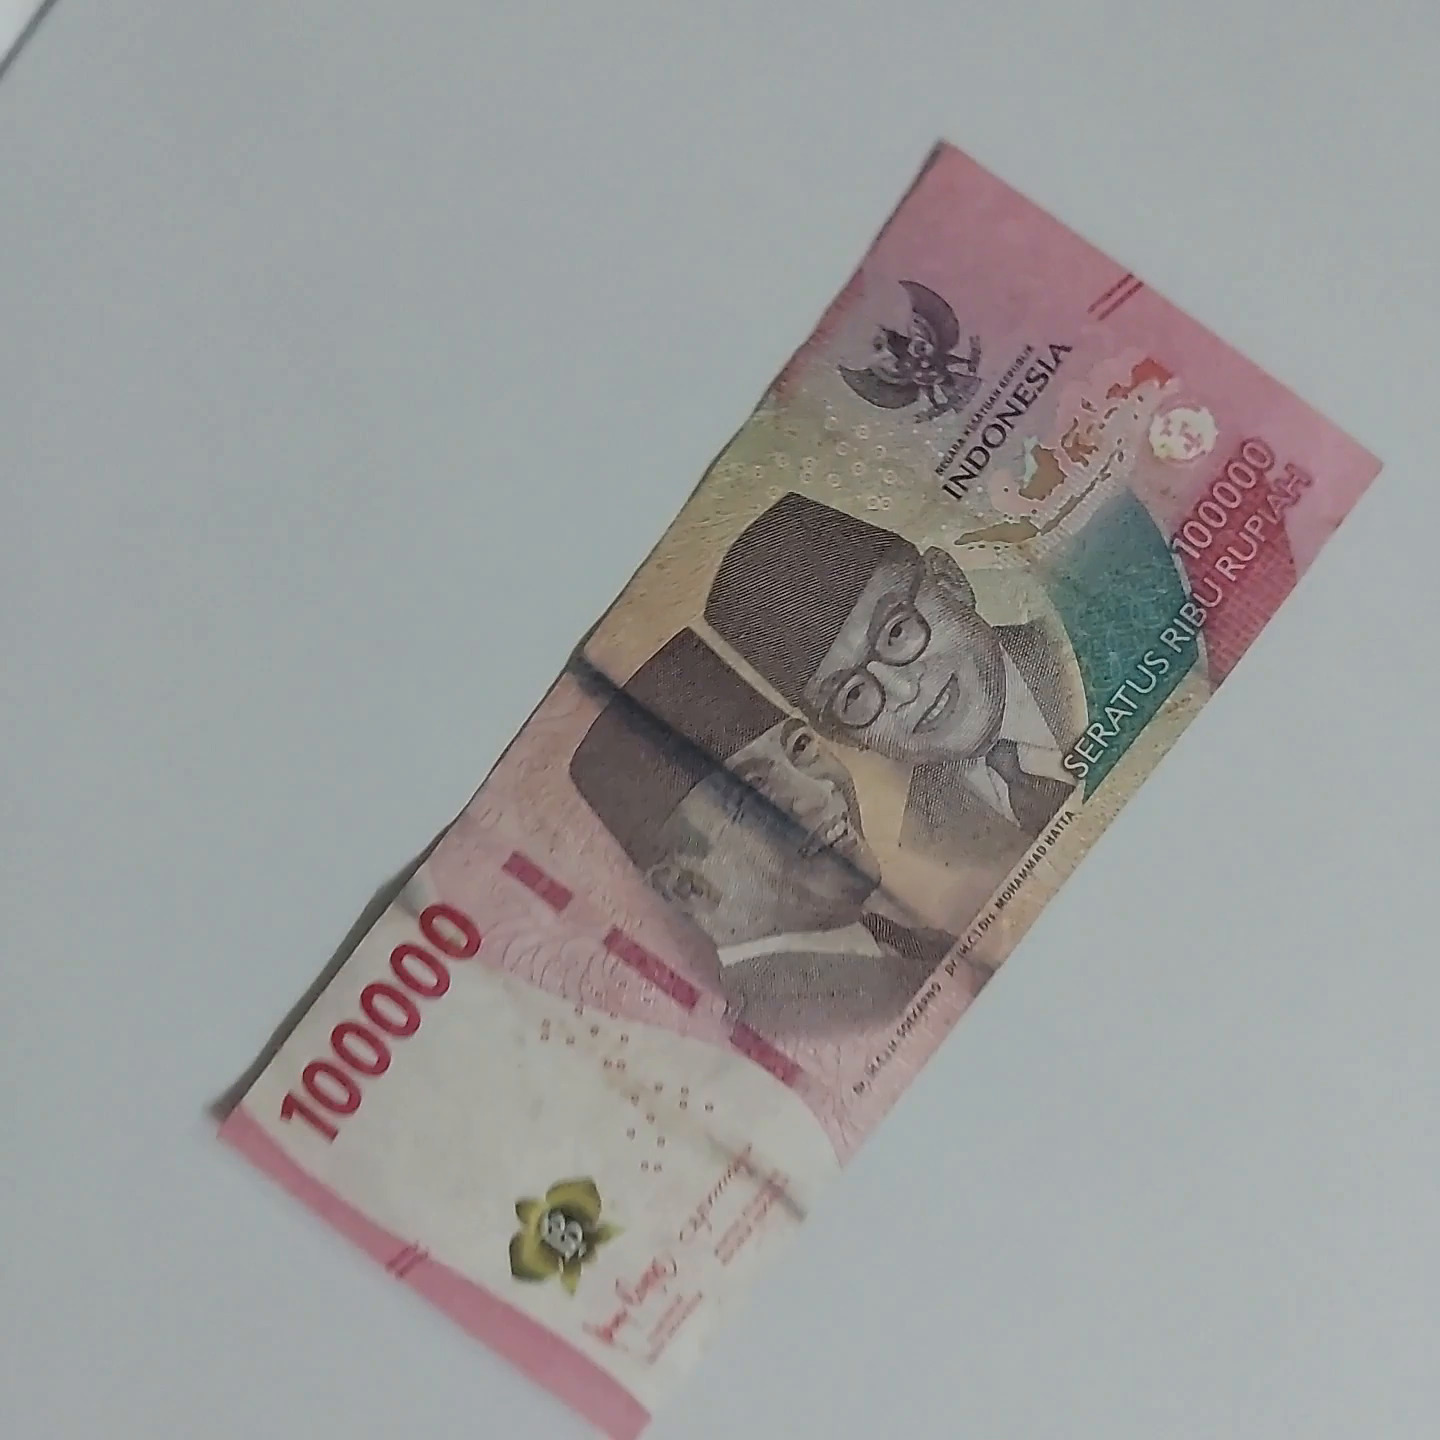100k: (177, 99, 1386, 1432)
